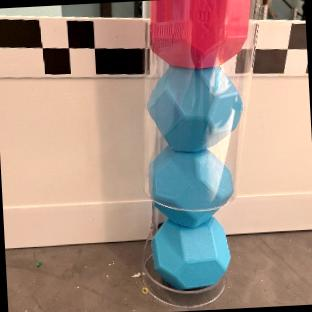Loader: (139, 0, 256, 307)
V5_BLUE: (147, 64, 241, 149), (151, 149, 232, 225), (151, 215, 229, 290)
V5_RED: (149, 0, 249, 68)
